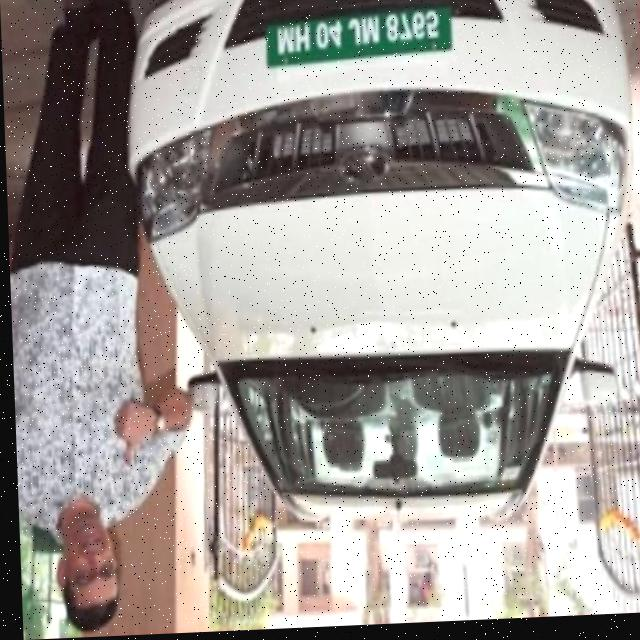plate: (265, 4, 456, 80)
